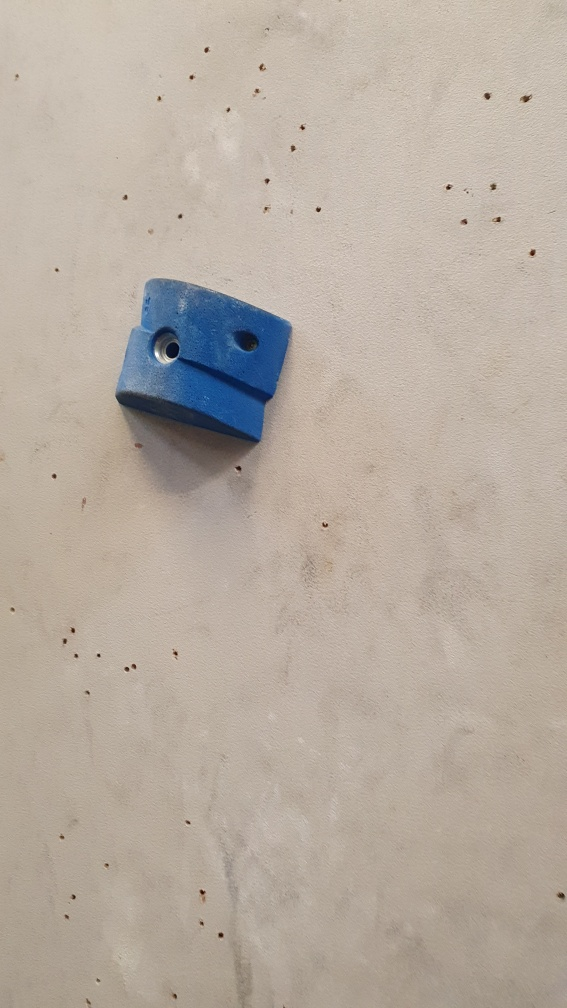Pinch: (113, 274, 297, 443)
